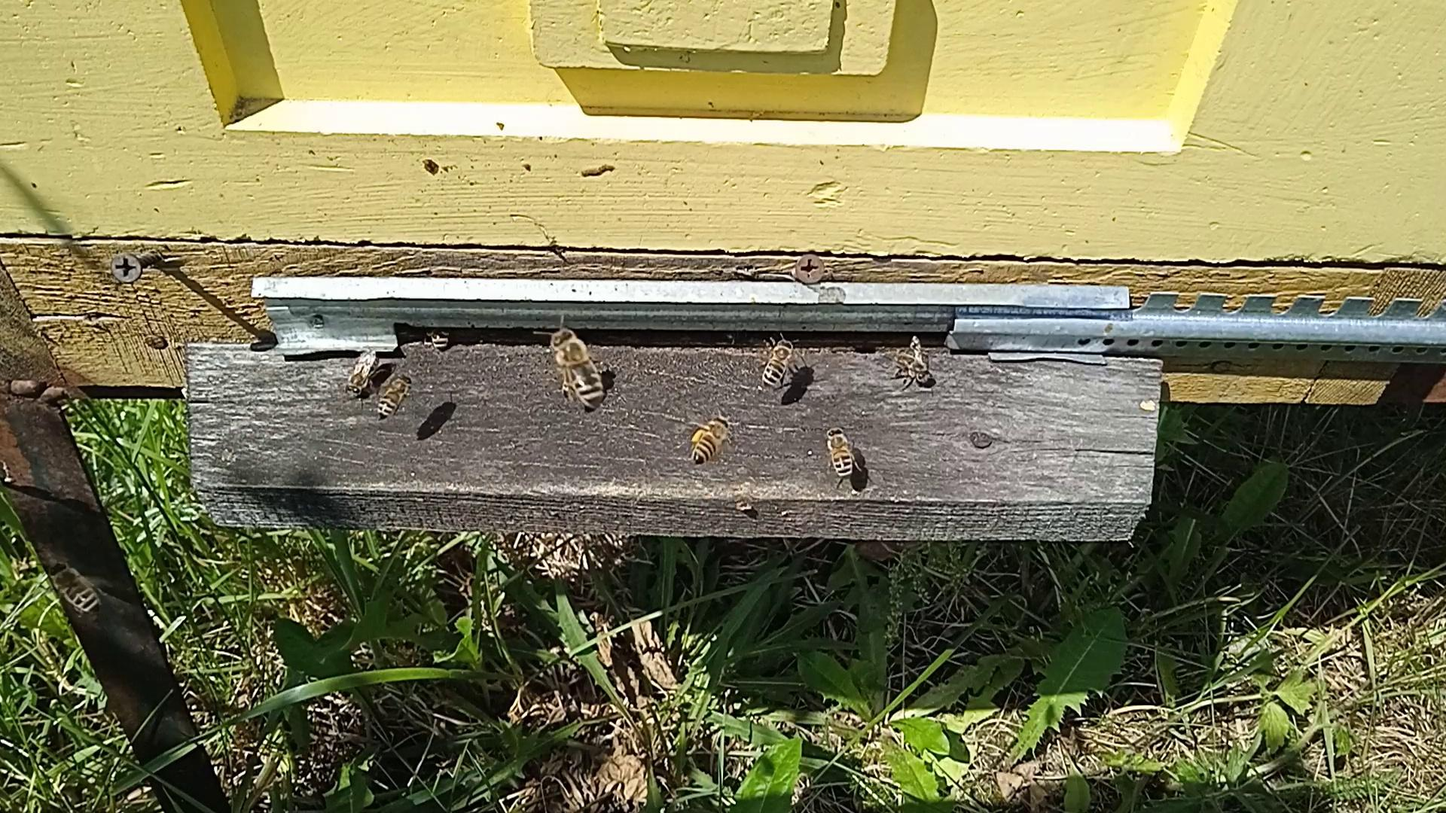worker-bee: (549, 328, 607, 410), (47, 561, 102, 615), (688, 416, 733, 464), (761, 337, 801, 388), (374, 370, 413, 419), (890, 346, 932, 386), (345, 349, 379, 397), (825, 425, 856, 477), (422, 327, 453, 352)
